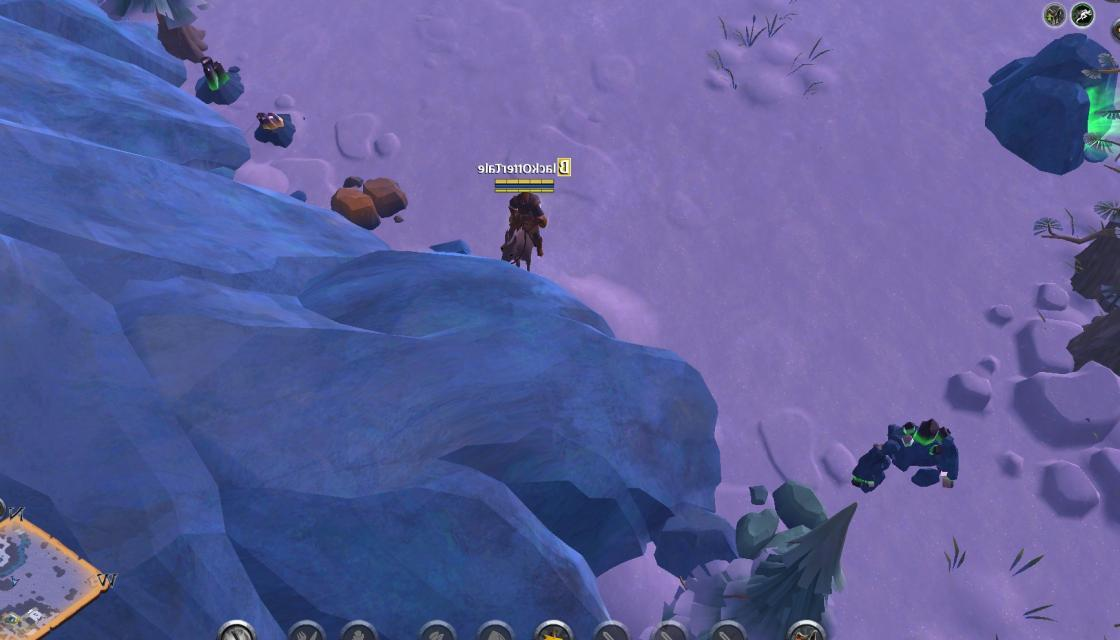copperore: (248, 108, 305, 148)
limestone: (326, 172, 410, 226)
sandstone: (734, 480, 832, 560)
tinore: (192, 54, 246, 108)
